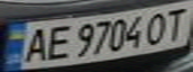0: (109, 16, 130, 52)
4: (124, 12, 151, 48)
7: (90, 18, 115, 55)
9: (72, 20, 96, 58)
A: (18, 25, 54, 64)
E: (42, 23, 72, 62)
O: (142, 9, 172, 46)
T: (160, 4, 193, 42)
